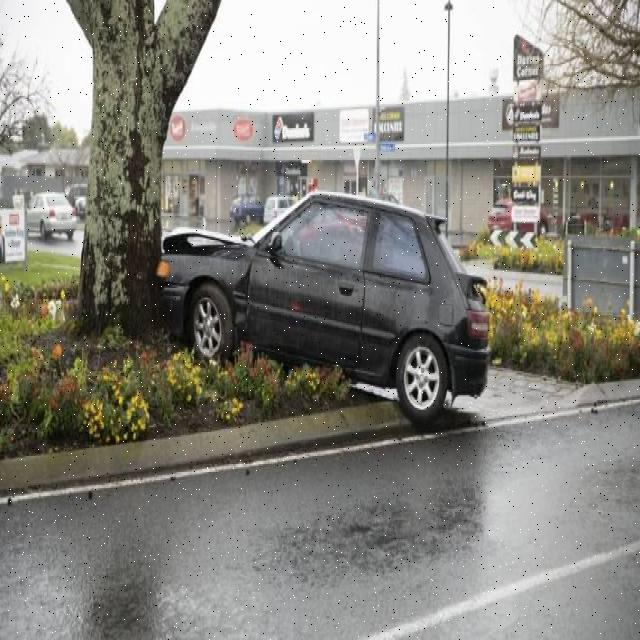moderate: (139, 166, 496, 431)
